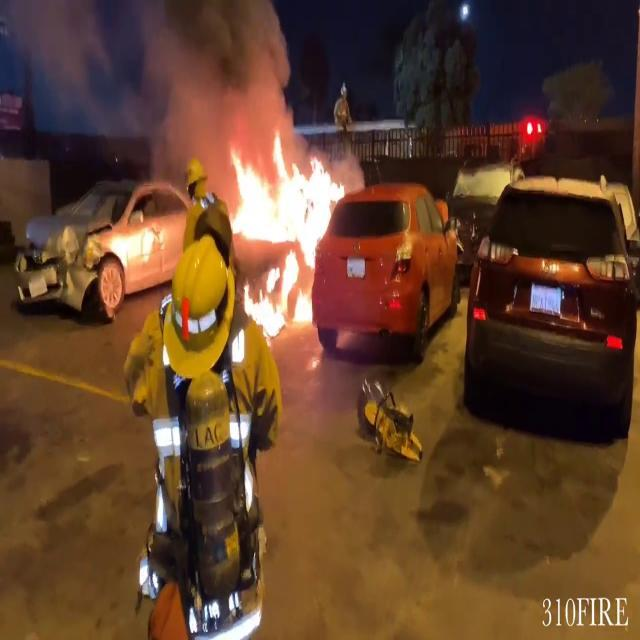Fire: (224, 125, 346, 338), (103, 210, 165, 270)
Smoke: (0, 0, 294, 145)
